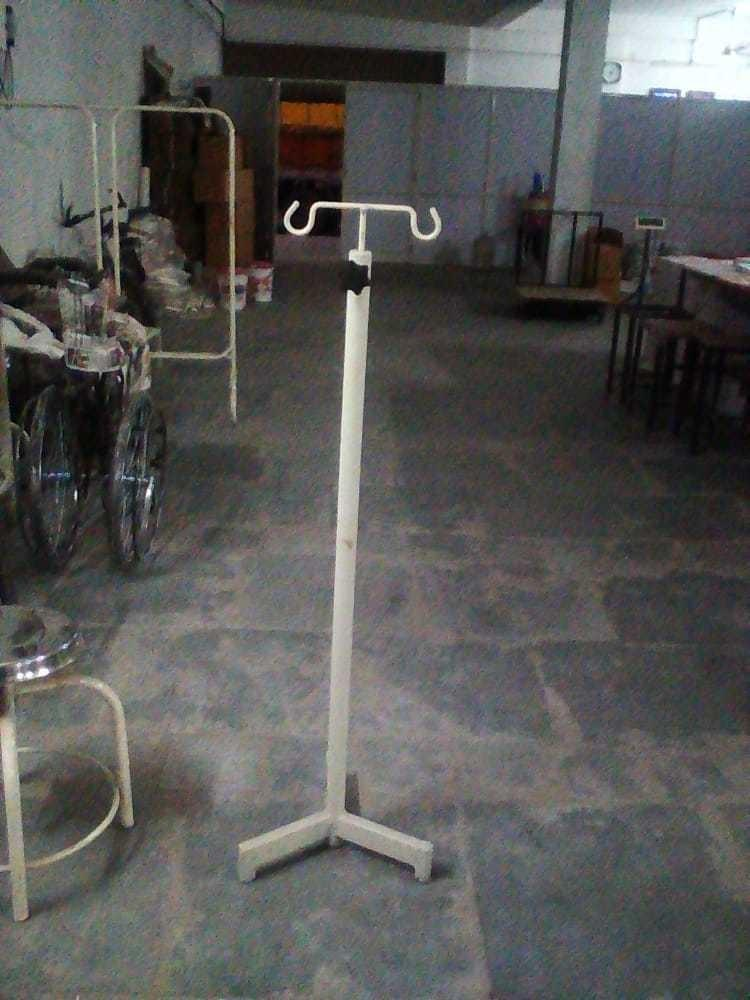Saline Stand: (234, 197, 442, 884)
stool: (0, 602, 136, 922)
